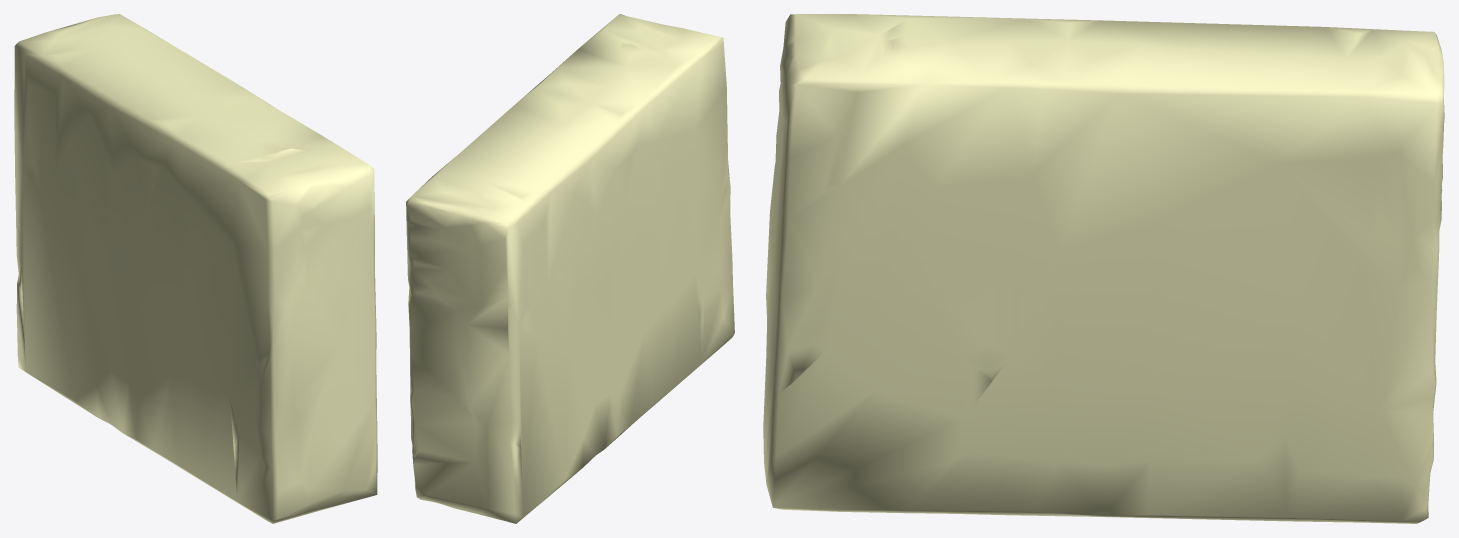
File: rectangularCube2_3.dae
The picture shows the model from 3 angles, left to right: view 1: azimuth 30°, elevation 25°; view 2: azimuth 150°, elevation 25°; view 3: azimuth 270°, elevation 25°; orthographic projection. The views are drawn at different scales.
Visible parts, largest first — view 1: BroccoliSoup_800_tex_019; view 2: BroccoliSoup_800_tex_019; view 3: BroccoliSoup_800_tex_019.
Boxes of the visible parts, bbox=[...] form: BroccoliSoup_800_tex_019: bbox=[14, 14, 377, 523]; BroccoliSoup_800_tex_019: bbox=[406, 14, 734, 523]; BroccoliSoup_800_tex_019: bbox=[763, 14, 1444, 523].
Size of the model in its own units: 0.0168 by 0.0597 by 0.045.
